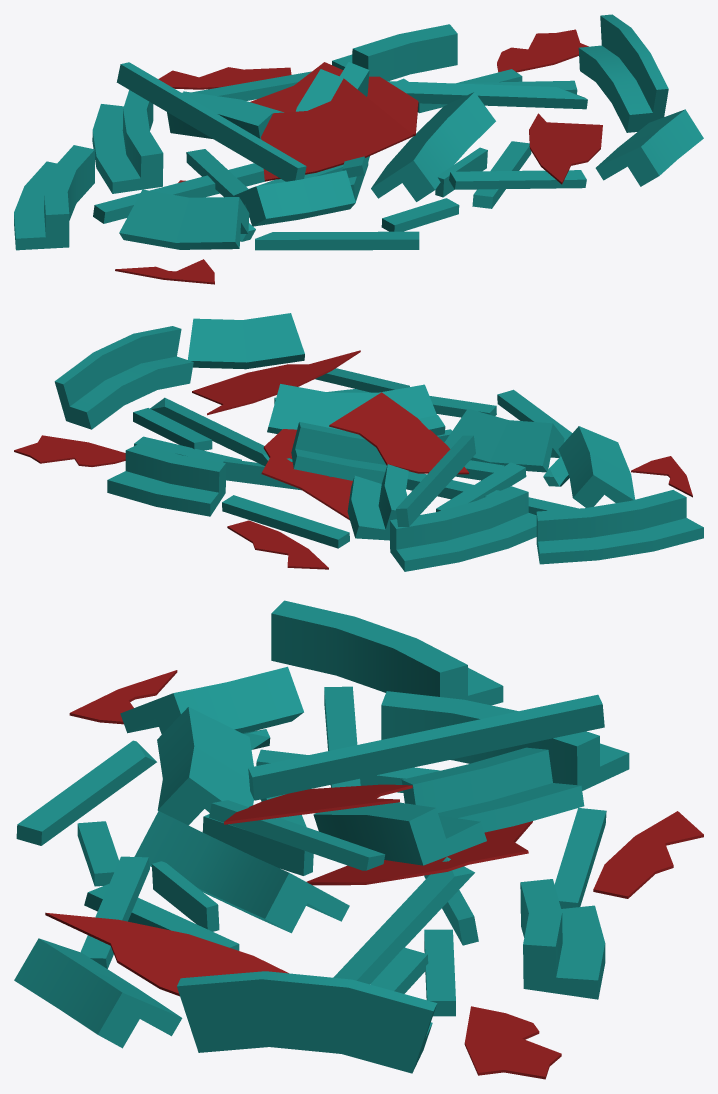
Rendered from Debris_Window_01.FBX.
3 renders of one model, top to bottom at view 1: azimuth 30°, elevation 25°; view 2: azimuth 150°, elevation 25°; view 3: azimuth 270°, elevation 25°, orthographic. The views are drawn at different scales.
Parts seen in each view (by area): view 1: Debris_Window_01_LOD0; view 2: Debris_Window_01_LOD0; view 3: Debris_Window_01_LOD0.
Boxes of the visible parts, x1,y1,x2,y2 form: Debris_Window_01_LOD0: [14, 14, 703, 284]; Debris_Window_01_LOD0: [14, 313, 703, 571]; Debris_Window_01_LOD0: [14, 600, 703, 1079].
Size of the model in its own units: 368 by 35.44 by 241.
